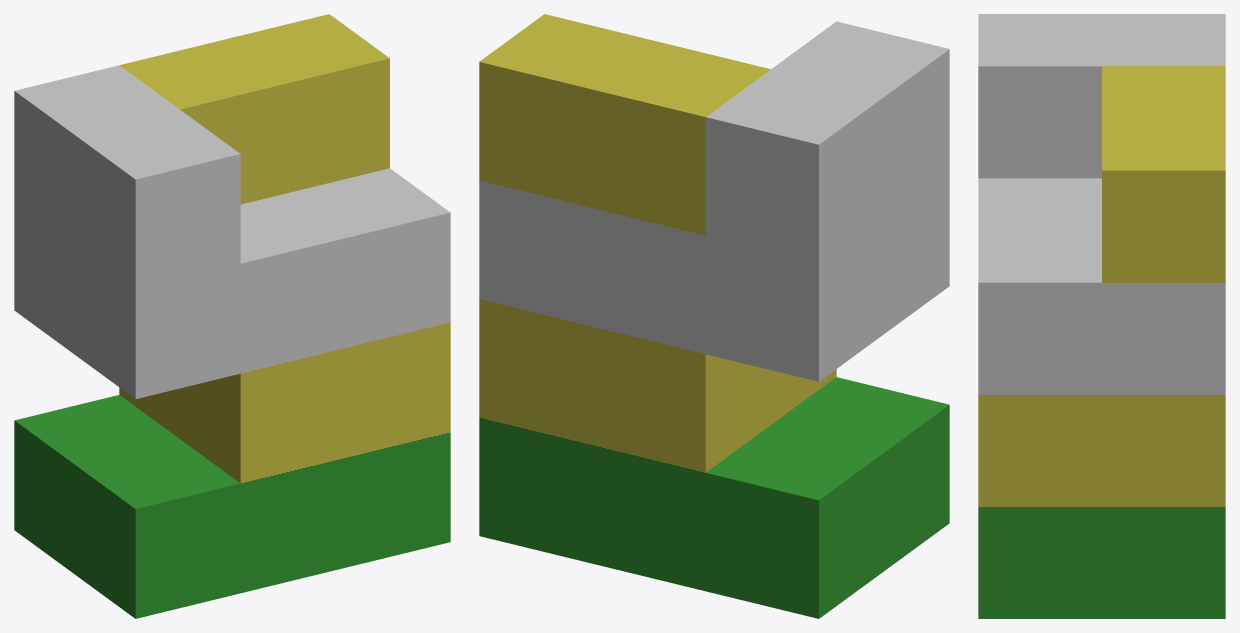
The model's file is GobLegL.dae.
3 renders of one model, left to right at view 1: azimuth 30°, elevation 25°; view 2: azimuth 150°, elevation 25°; view 3: azimuth 270°, elevation 25°, orthographic. The views are drawn at different scales.
Parts seen in each view (by area): view 1: GobLegL; view 2: GobLegL; view 3: GobLegL.
Boxes of the visible parts, <box> form: GobLegL: <box>14,14,450,618</box>; GobLegL: <box>479,14,949,618</box>; GobLegL: <box>978,14,1225,618</box>.
Bounding box in the file's own units: 0.3 × 0.2 × 0.4.
1 material, 1 textured.
